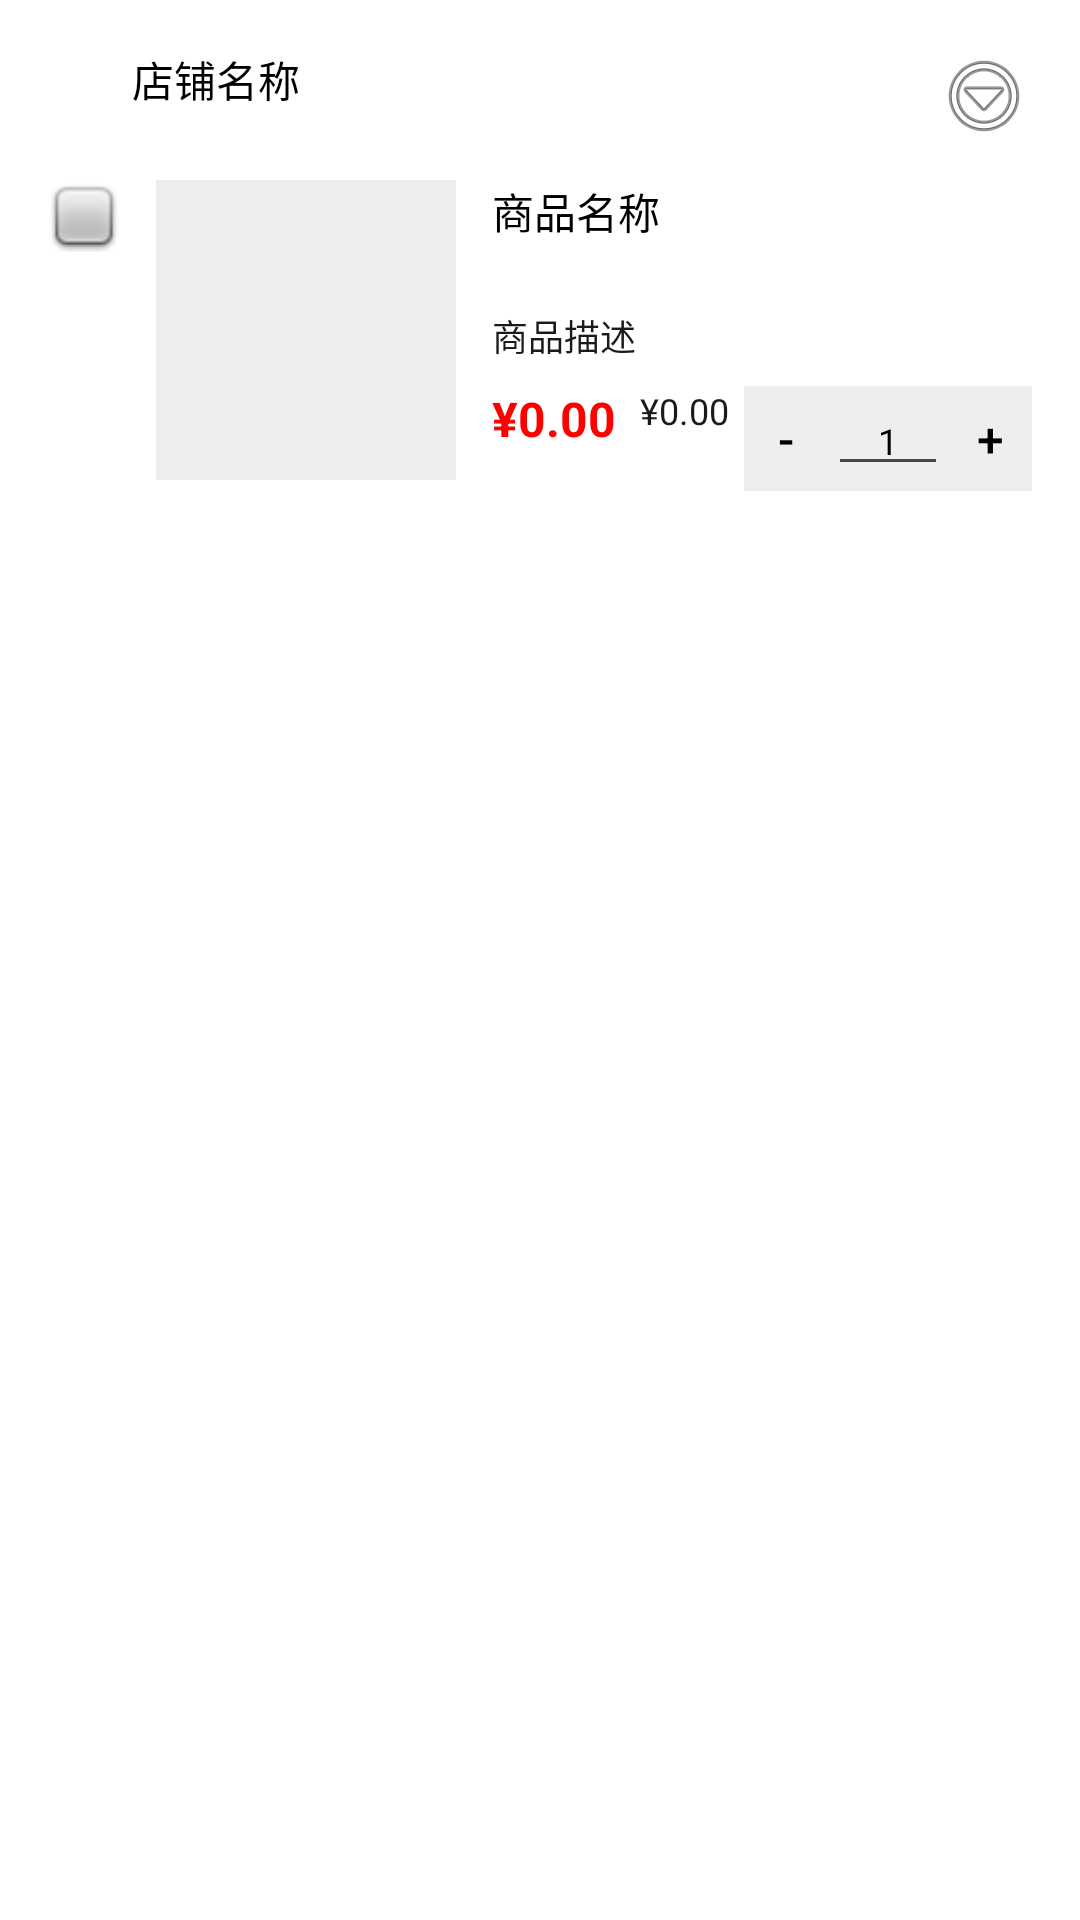

Icons on this 1080*1920 Android screen, each with the point to tap as (x=x, y=y):
more: (x=984, y=96)
